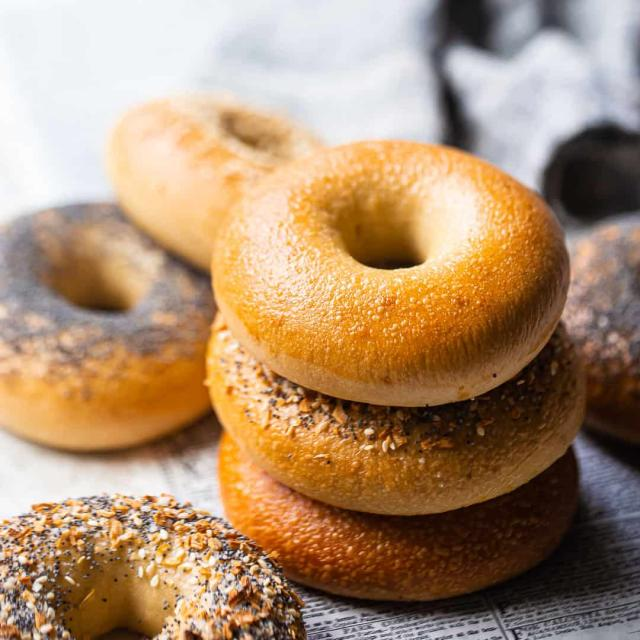Bagel: (211, 141, 569, 406), (206, 318, 586, 515), (219, 434, 579, 601), (0, 204, 215, 450), (0, 495, 306, 640), (108, 98, 320, 269)
